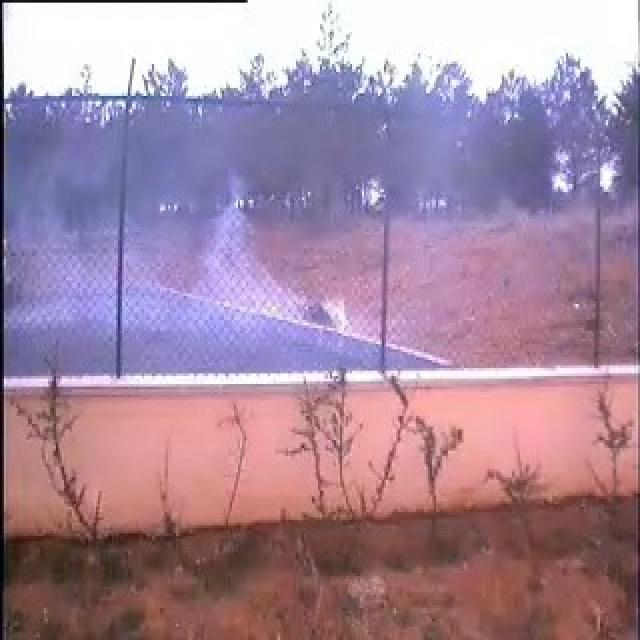smoke: (120, 112, 391, 379)
